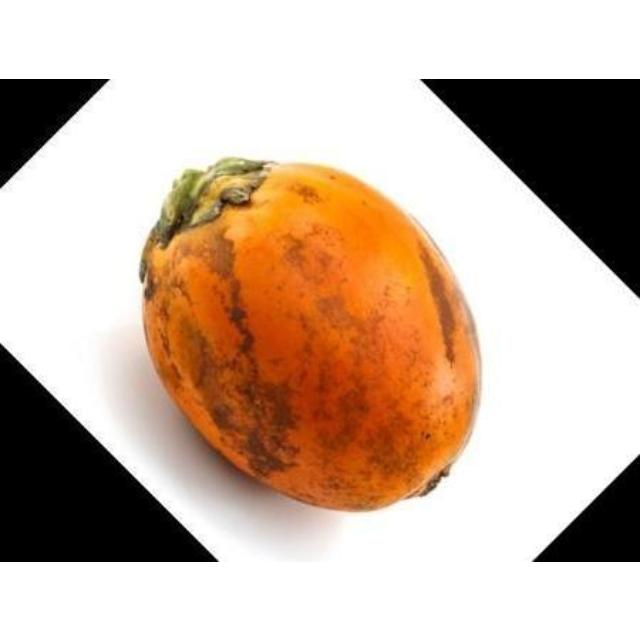good: (139, 156, 484, 513)
